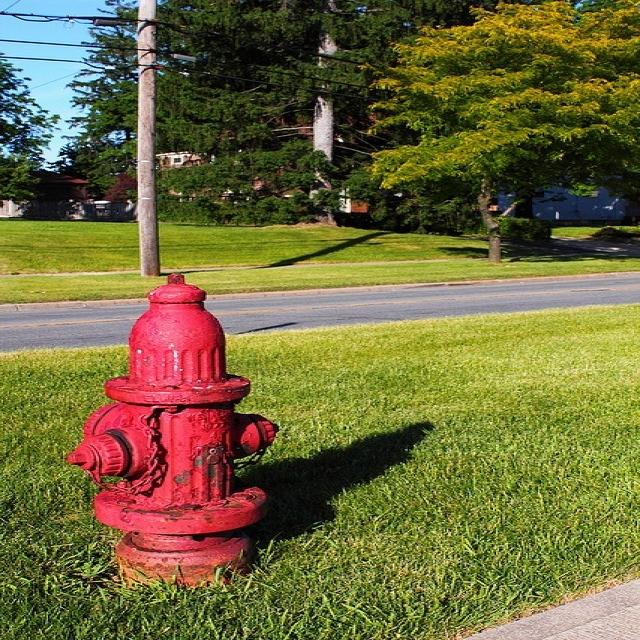fire_hydrant: (51, 276, 332, 591)
